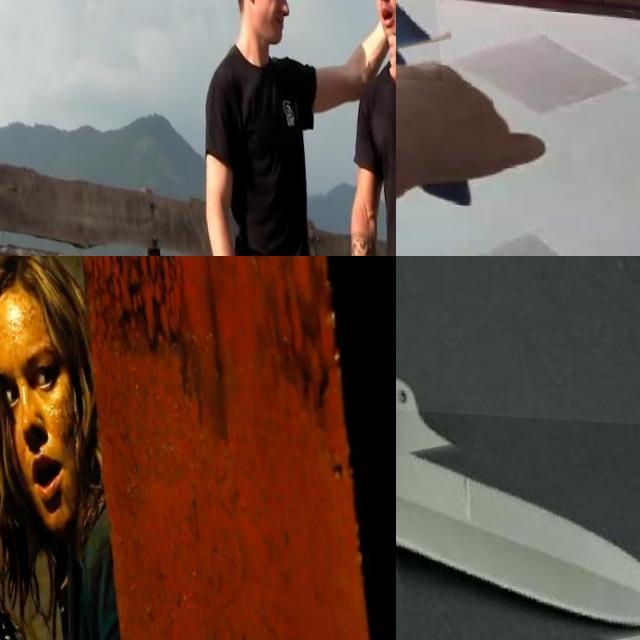-: (396, 404, 640, 640), (396, 0, 537, 148)
gun-knife-thesis - v11 Yolov5 augmented: (0, 518, 59, 640)
